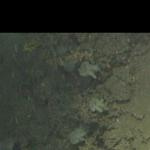dead: (4, 35, 147, 145)
